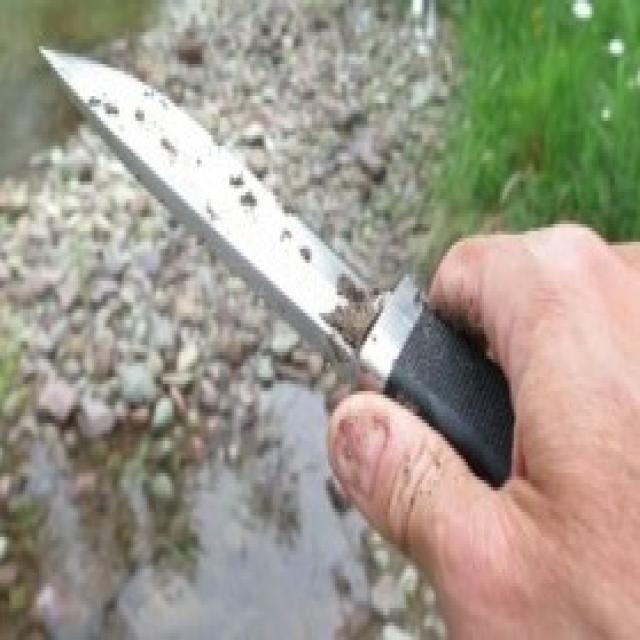knife: (37, 32, 520, 480)
